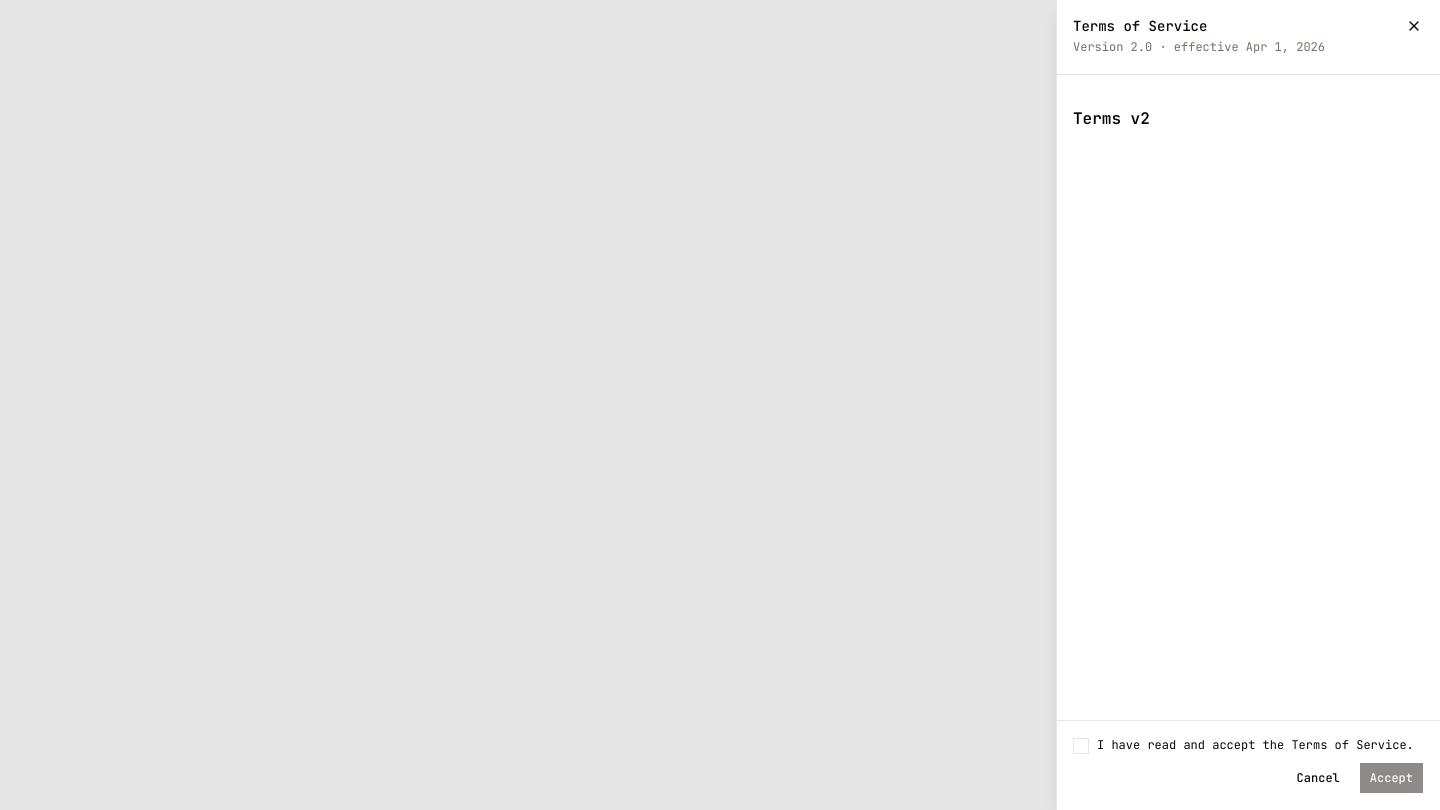
Test case: LegalDocumentSheet (accept mode) › surfaces problem.detail when the backend returns a non-400 problem
Click the checkbox named "i have read and accept": click(1081, 746) [1073,738,1089,754]
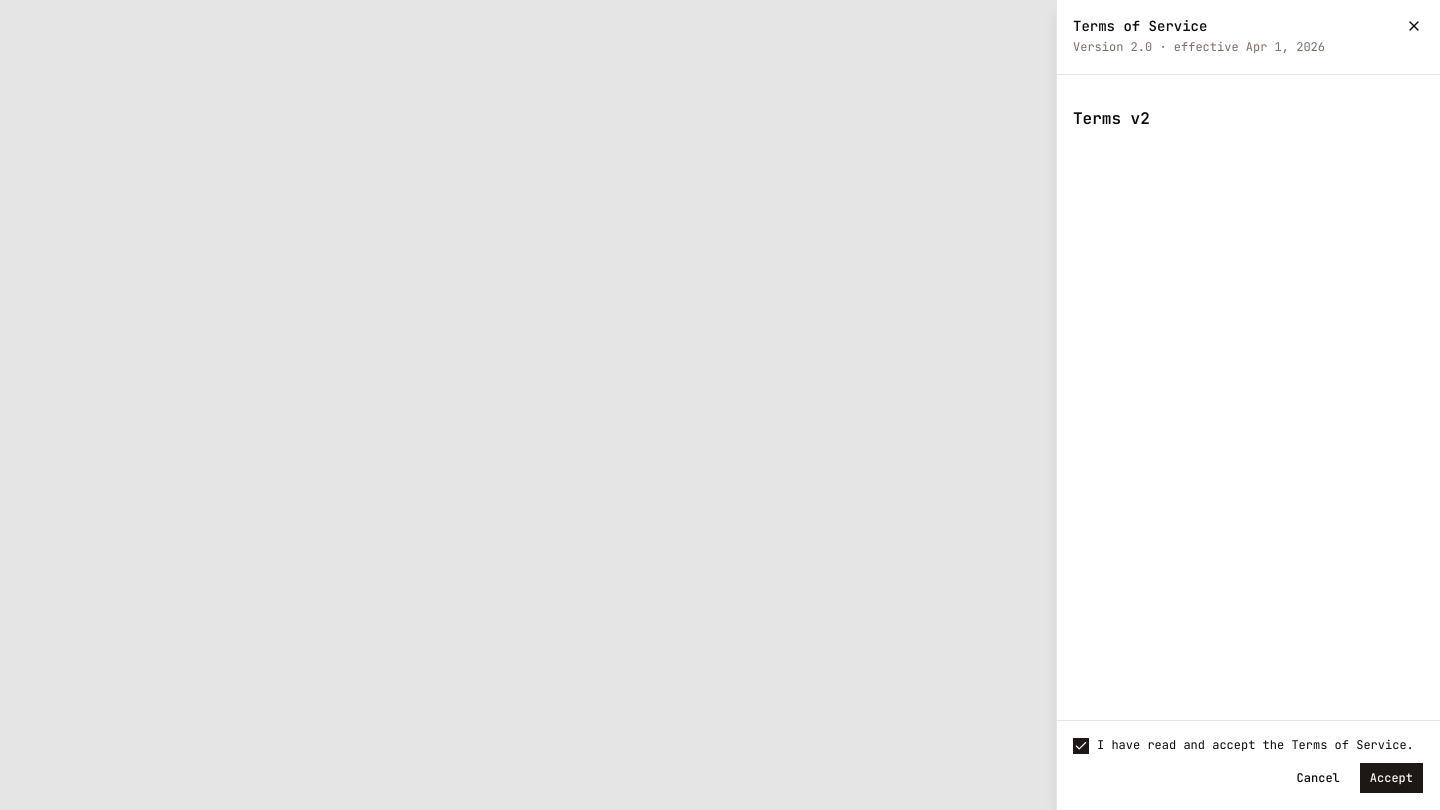
Click the button "Accept": click(1391, 778) [1359,762,1424,794]
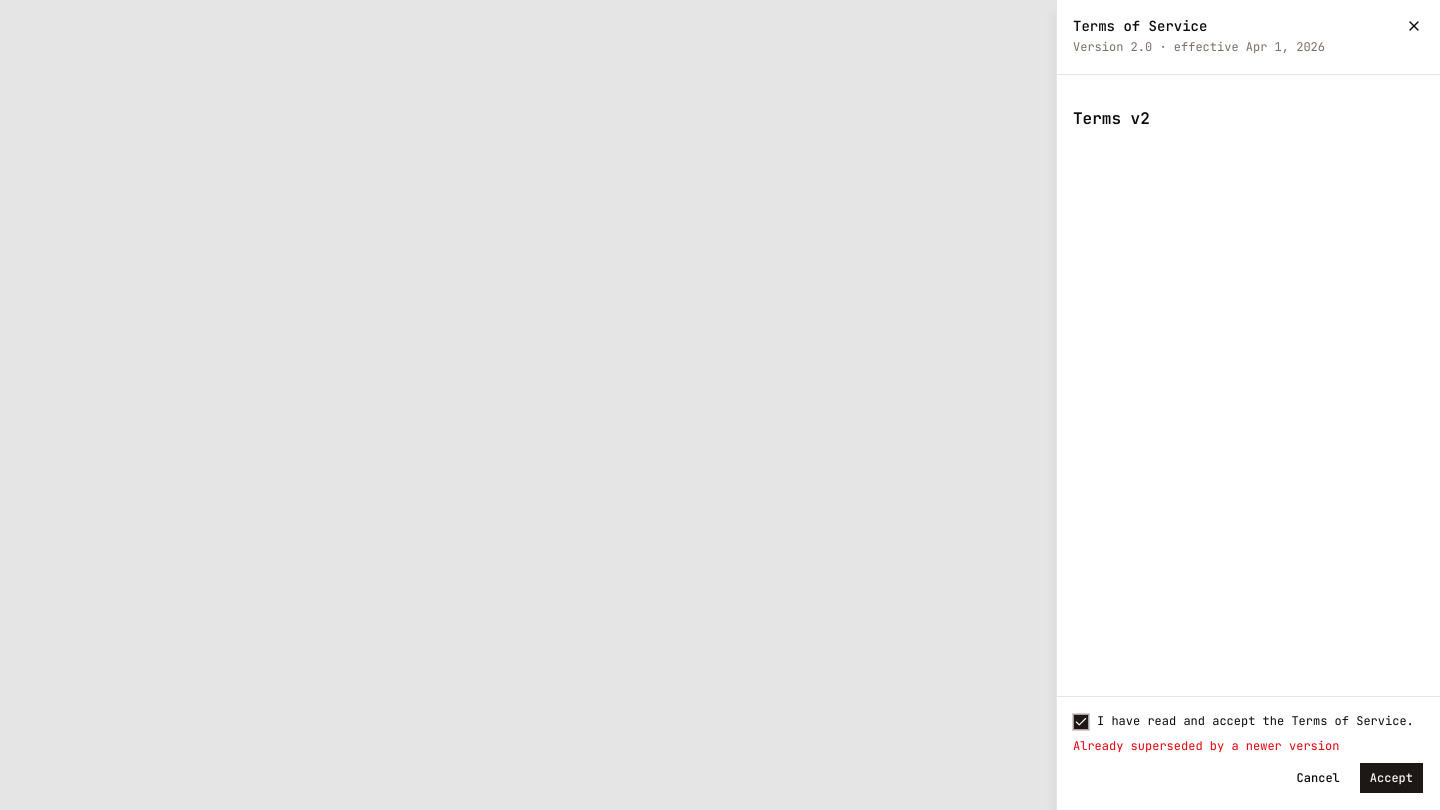
Check: the message shows "Already superseded", box [1073,738,1339,754]
